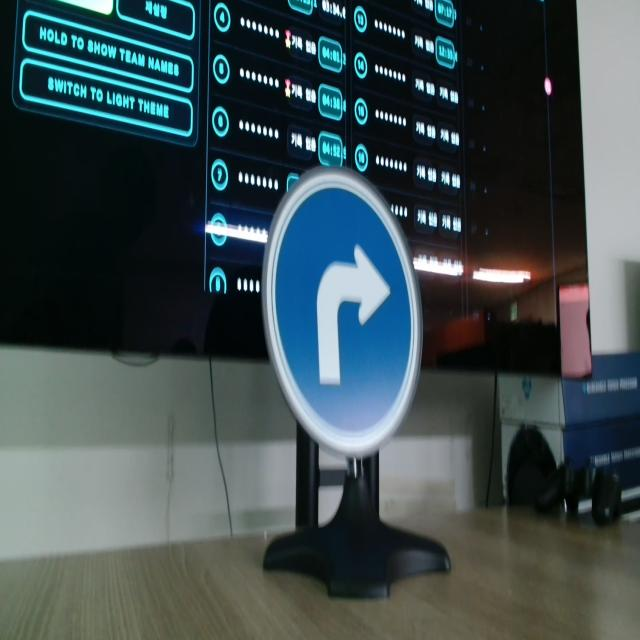right_dierection: (255, 136, 439, 487)
